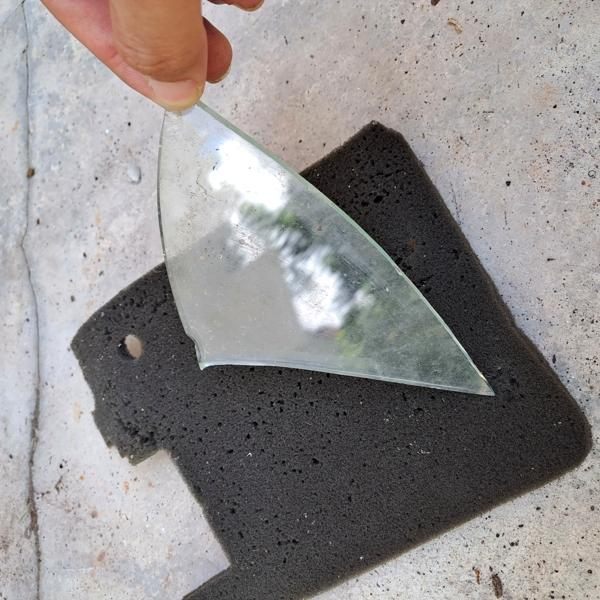Anorganik: (111, 104, 509, 401)
